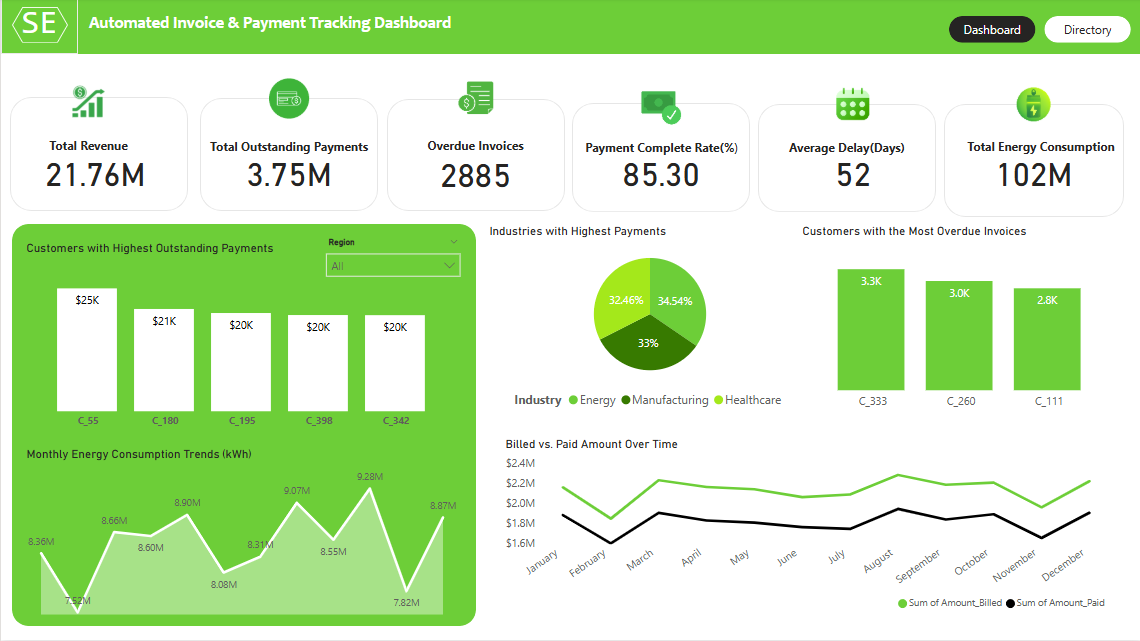

This screenshot's page, from the dashboard's own definition file:
{"tool":"powerbi","page":{"name":"Dashboard","canvas":[1280,720],"ordinal":0},"visuals":[{"type":"shape","box":[12.3,253.5,520.5,451],"z":0},{"type":"shape","box":[0,0,1280,62.8],"z":1000},{"type":"shape","box":[10.1,111.1,199.7,127.9],"z":2000},{"type":"shape","box":[223.2,112.2,199.7,126.8],"z":3000},{"type":"shape","box":[433,113.3,199.7,125.6],"z":4000},{"type":"shape","box":[640.6,117.8,199.7,122.3],"z":5000},{"type":"shape","box":[849.2,118.9,199.7,121.2],"z":6000},{"type":"shape","box":[1057.9,118.9,201.9,126.8],"z":7000},{"type":"card","fields":{"Values":["Sheet1.Total_Revenue_Collected"]},"box":[43.8,157.1,123.4,76.3],"z":8000},{"type":"textbox","box":[43.8,151.4,108.8,30.3],"z":9000},{"type":"card","fields":{"Values":["Sheet1.Total_Outstanding_Payments"]},"box":[244.6,152.6,157.1,84.1],"z":10000},{"type":"textbox","box":[223.2,152.6,199.7,30.3],"z":11000},{"type":"card","fields":{"Values":["Sheet1.Overdue_Invoice_Count"]},"box":[485.7,160.4,93.1,70.7],"z":12000},{"type":"textbox","box":[468.9,151.4,126.8,32.5],"z":13000},{"type":"card","fields":{"Values":["Sheet1.Payment_Completion_Rate"]},"box":[678.7,159.3,123.4,70.7],"z":14000},{"type":"textbox","box":[640.6,153.7,200.8,28],"z":15000},{"type":"card","fields":{"Values":["Sheet1.Avg_Payment_Delay"]},"box":[913.2,161.5,84.1,67.3],"z":16000},{"type":"textbox","box":[849.2,153.7,199.7,29.2],"z":17000},{"type":"clusteredColumnChart","title":"Customers with Highest Outstanding Payments","fields":{"Y":["Sum(Sheet1.Pending_Amount)"],"Category":["Sheet1.Cus_name"]},"box":[23.6,272.6,493.6,219.9],"z":18000},{"type":"lineChart","title":"Billed vs. Paid Amount Over Time","fields":{"Category":["Sheet1.Invoice_Date.Variation.Date Hierarchy.Month"],"Y":["Sum(Sheet1.Amount_Billed)","Sum(Sheet1.Amount_Paid)"]},"box":[560.9,492.5,686.6,204.2],"z":19000},{"type":"clusteredColumnChart","title":"Customers with the Most Overdue Invoices","fields":{"Category":["Sheet1.Cus_name"],"Y":["Sum(Sheet1.Overdue_Days)"]},"box":[894.1,253.5,365.7,216.5],"z":20000},{"type":"pieChart","title":"Industries with Highest Payments","fields":{"Category":["Sheet1.Industry"],"Y":["Sum(Sheet1.Amount_Paid)"]},"box":[543,253.5,370.2,216.5],"z":21000},{"type":"card","fields":{"Values":["Sheet1.Total_Energy_Consumption"]},"box":[1092.7,160.4,131.3,69.6],"z":22000},{"type":"textbox","box":[1073.6,152.6,186.2,28],"z":23000},{"type":"slicer","fields":{"Values":["Sheet1.Region"]},"box":[354.5,263.6,170.5,50.5],"z":24000},{"type":"textbox","box":[0,0,86.4,62.8],"z":25000},{"type":"shape","box":[12.3,10.1,62.8,40.4],"z":26000},{"type":"image","box":[894.1,95.4,123.4,47.1],"z":27000},{"type":"image","box":[1127.4,95.4,61.7,48.2],"z":28000},{"type":"image","box":[291.7,85.3,62.8,55],"z":30000},{"type":"image","box":[499.2,87.5,66.2,49.4],"z":31000},{"type":"image","box":[706.7,95.4,67.3,56.1],"z":32000},{"type":"lineChart","title":"Monthly Energy Consumption Trends (kWh)","fields":{"Category":["Sheet1.Invoice_Date.Variation.Date Hierarchy.Month"],"Y":["Sum(Sheet1.Energy_Consumption_kWh)"]},"box":[23.6,503.7,493.6,193],"z":33000},{"type":"pageNavigator","box":[1063.5,20.2,205.3,30.3],"z":33001},{"type":"textbox","box":[86.4,10.1,430.8,40.4],"z":33002},{"type":"image","box":[75.2,92,46,48.2],"z":33003}]}

Visuals, with their boxes in screenshot pixels (x1, y1, x2, y2), scaled from the page's 1280x720 canvas onto the 1140x641 screenshot:
shape: 11, 226, 475, 627
shape: 0, 0, 1139, 56
shape: 9, 99, 187, 213
shape: 199, 100, 377, 213
shape: 386, 101, 563, 213
shape: 571, 105, 748, 214
shape: 756, 106, 934, 214
shape: 942, 106, 1122, 219
card - Sheet1.Total_Revenue_Collected: 39, 140, 149, 208
textbox: 39, 135, 136, 162
card - Sheet1.Total_Outstanding_Payments: 218, 136, 358, 211
textbox: 199, 136, 377, 163
card - Sheet1.Overdue_Invoice_Count: 433, 143, 515, 206
textbox: 418, 135, 531, 164
card - Sheet1.Payment_Completion_Rate: 604, 142, 714, 205
textbox: 571, 137, 749, 162
card - Sheet1.Avg_Payment_Delay: 813, 144, 888, 204
textbox: 756, 137, 934, 163
"Customers with Highest Outstanding Payments" clusteredColumnChart: 21, 243, 461, 438
"Billed vs. Paid Amount Over Time" lineChart: 500, 438, 1111, 620
"Customers with the Most Overdue Invoices" clusteredColumnChart: 796, 226, 1122, 418
"Industries with Highest Payments" pieChart: 484, 226, 813, 418
card - Sheet1.Total_Energy_Consumption: 973, 143, 1090, 205
textbox: 956, 136, 1122, 161
slicer - Sheet1.Region: 316, 235, 468, 280
textbox: 0, 0, 77, 56
shape: 11, 9, 67, 45
image: 796, 85, 906, 127
image: 1004, 85, 1059, 128
image: 260, 76, 316, 125
image: 445, 78, 504, 122
image: 629, 85, 689, 135
"Monthly Energy Consumption Trends (kWh)" lineChart: 21, 448, 461, 620
pageNavigator: 947, 18, 1130, 45
textbox: 77, 9, 461, 45
image: 67, 82, 108, 125
